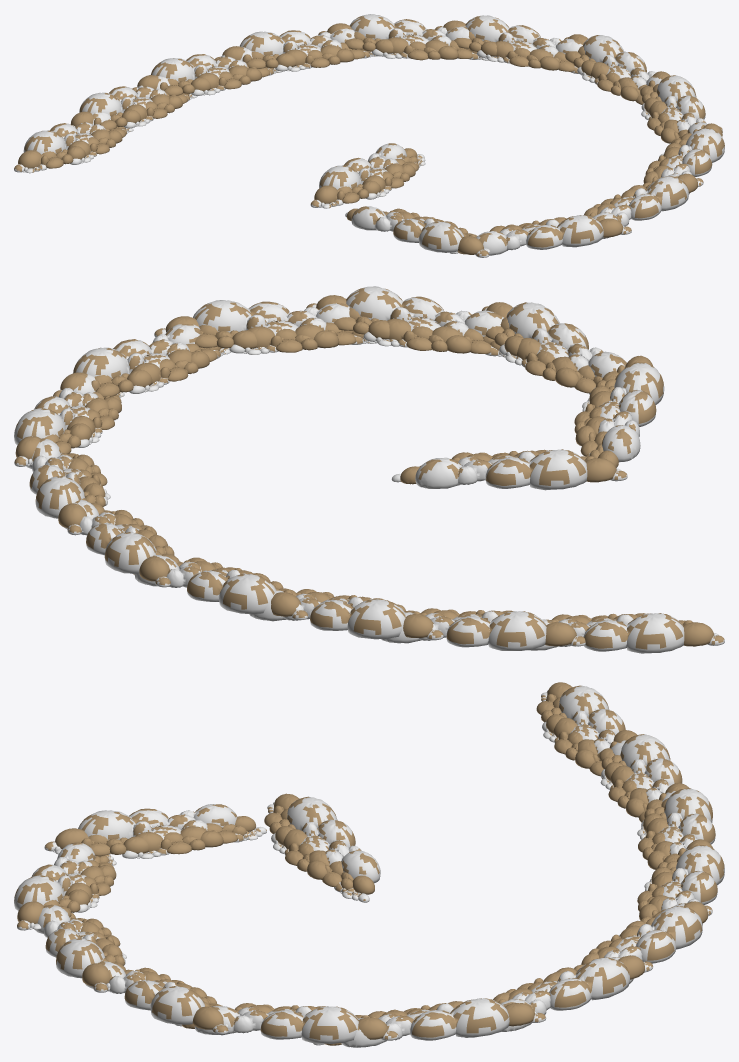
File: MossLvl3.fbx
3 renders of one model, top to bottom at view 1: azimuth 30°, elevation 25°; view 2: azimuth 150°, elevation 25°; view 3: azimuth 270°, elevation 25°, orthographic. The views are drawn at different scales.
Visible parts, largest first — view 1: LargeMossCluster.002; view 2: LargeMossCluster.002; view 3: LargeMossCluster.002.
Part boxes in pixels (left/top/right/bottom): LargeMossCluster.002: left=14, top=14, right=724, bottom=257; LargeMossCluster.002: left=14, top=286, right=724, bottom=653; LargeMossCluster.002: left=14, top=682, right=724, bottom=1047.
Bounding box in the file's own units: 1517 × 76.58 × 1287.
